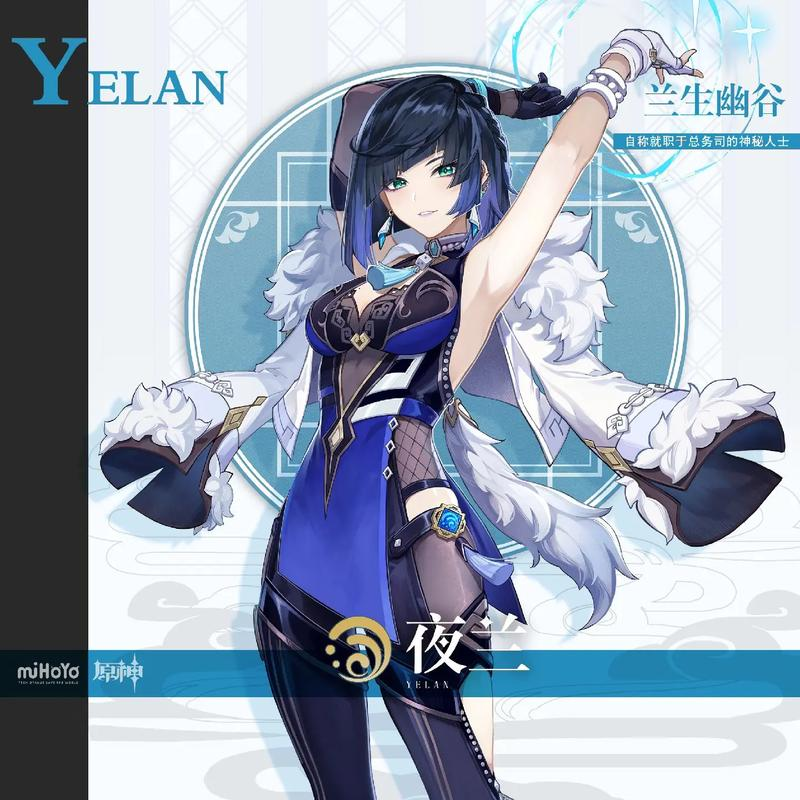夜兰: (245, 26, 704, 794)
